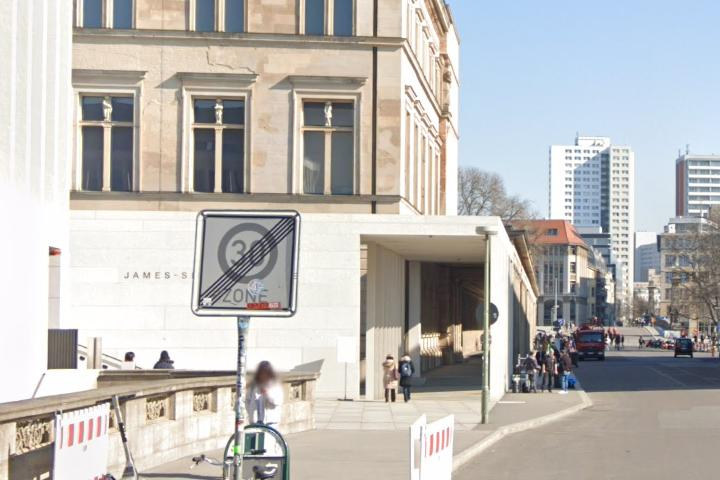traffic_sign: (216, 221, 281, 286)
vehicle: (571, 324, 611, 365), (670, 336, 696, 359)
